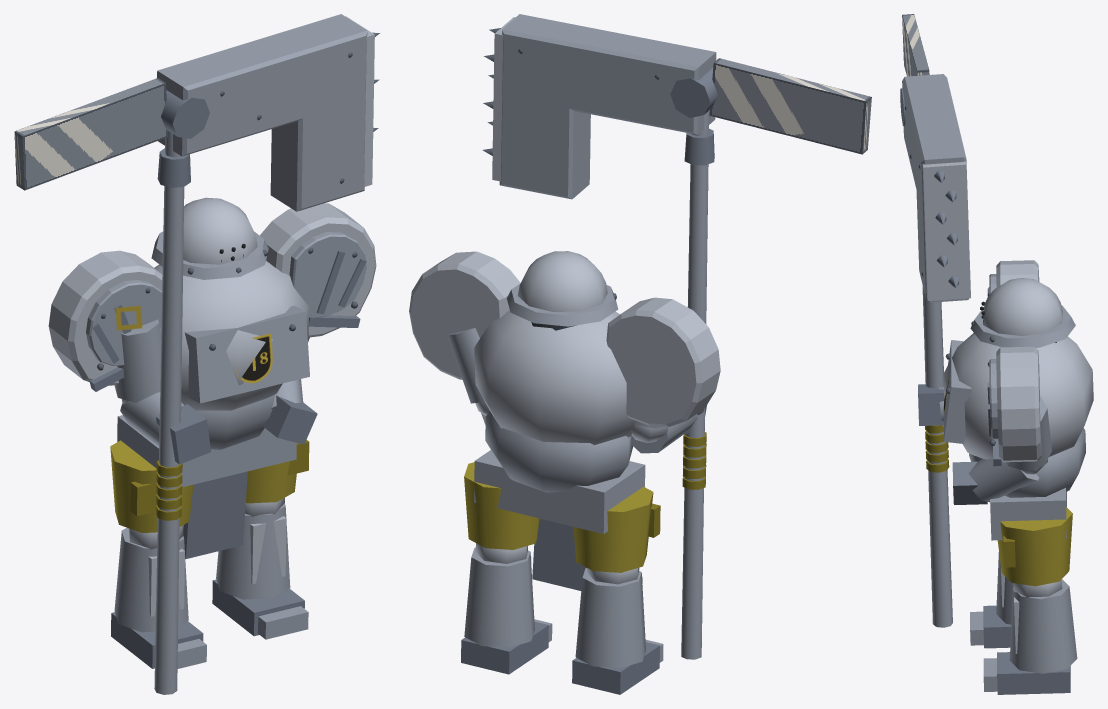
File: hammerist-v2.glb
3 views of the same model, side by side, from view 1: azimuth 30°, elevation 25°; view 2: azimuth 150°, elevation 25°; view 3: azimuth 270°, elevation 25° (orthographic). The views are drawn at different scales.
Parts seen in each view (by area): view 1: Hammerist · Tuned; view 2: Hammerist · Tuned; view 3: Hammerist · Tuned.
Part boxes in pixels (<box>): Hammerist · Tuned: <box>14,14,379,694</box>; Hammerist · Tuned: <box>409,14,871,694</box>; Hammerist · Tuned: <box>900,14,1093,694</box>.
Bounding box in the file's own units: 6.18 × 8.92 × 2.86.
Materials: 87 (6 with a texture image).
